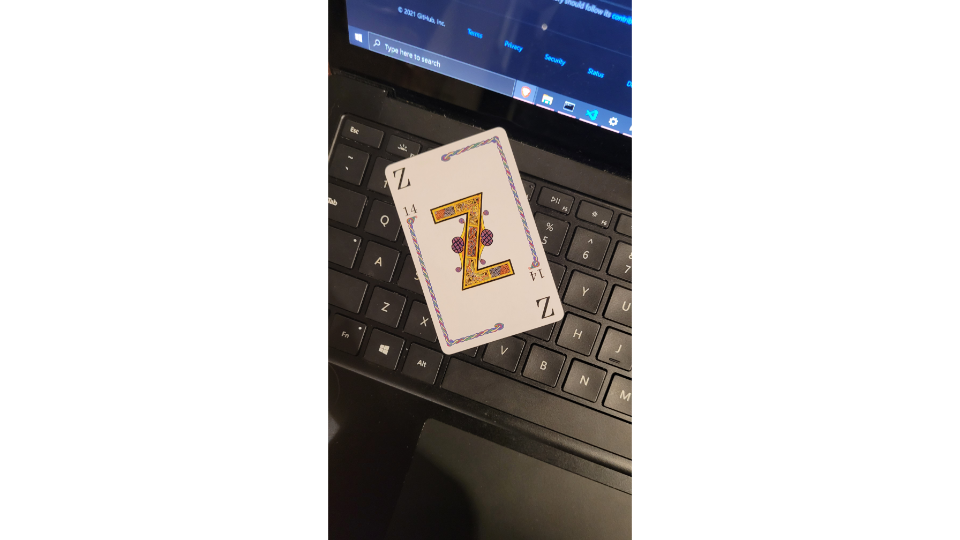Z: (383, 123, 568, 355)
